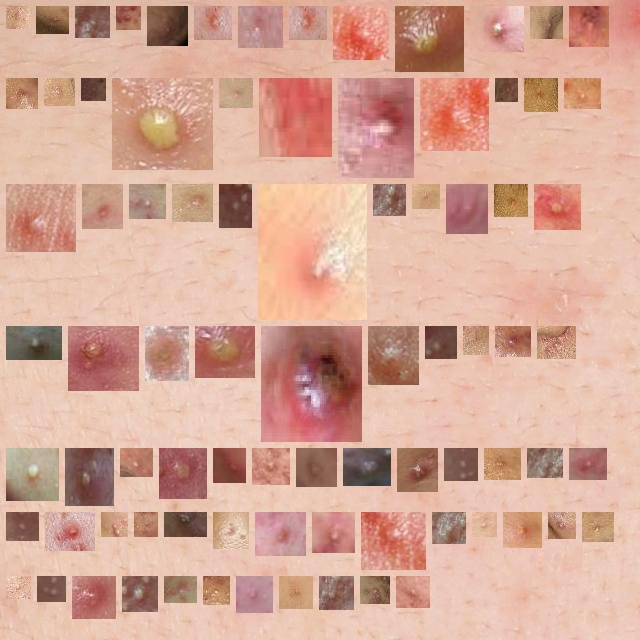pustule: (266, 192, 359, 312), (269, 334, 354, 434), (120, 86, 205, 162), (346, 86, 406, 170), (267, 86, 326, 149), (6, 192, 68, 244), (428, 86, 481, 143), (76, 334, 131, 383), (403, 14, 456, 64), (369, 520, 418, 562), (203, 334, 247, 370), (341, 14, 381, 52), (376, 334, 411, 377), (73, 456, 106, 498), (14, 456, 51, 493), (478, 14, 516, 44), (167, 456, 199, 491), (153, 334, 181, 373), (263, 520, 298, 548), (542, 192, 573, 222), (454, 192, 480, 226), (246, 14, 275, 42), (53, 520, 87, 543), (80, 584, 108, 611), (90, 192, 115, 221), (14, 334, 54, 352), (351, 456, 383, 478), (405, 456, 430, 484), (320, 520, 347, 545), (155, 14, 180, 38), (577, 14, 601, 39), (304, 456, 329, 479), (180, 192, 205, 214), (227, 192, 244, 220), (260, 456, 282, 477), (511, 520, 534, 540), (172, 512, 199, 529), (244, 584, 265, 605), (221, 520, 241, 541), (130, 584, 150, 604), (137, 192, 158, 211), (202, 14, 224, 32), (297, 14, 319, 32), (545, 334, 568, 351), (577, 456, 599, 472), (327, 584, 346, 602), (492, 456, 513, 472), (532, 86, 550, 104), (221, 456, 238, 475), (572, 86, 593, 101), (502, 192, 520, 209), (452, 456, 470, 473), (287, 584, 305, 601), (83, 14, 102, 30), (503, 334, 523, 349), (538, 14, 555, 31), (440, 520, 458, 536), (404, 584, 422, 600), (535, 456, 555, 470), (381, 192, 398, 208), (433, 334, 449, 351), (227, 86, 245, 100), (14, 86, 30, 101), (590, 520, 606, 534), (128, 456, 145, 469), (14, 520, 31, 533), (44, 14, 61, 26), (172, 584, 189, 595), (52, 86, 67, 98), (368, 584, 382, 596), (211, 584, 222, 597), (556, 520, 568, 531), (471, 334, 481, 347), (45, 584, 58, 594), (420, 192, 432, 201), (109, 520, 120, 529), (480, 520, 489, 529), (124, 14, 133, 22), (142, 520, 150, 529), (89, 86, 98, 93), (14, 584, 23, 591), (14, 14, 22, 21), (503, 86, 510, 94)
